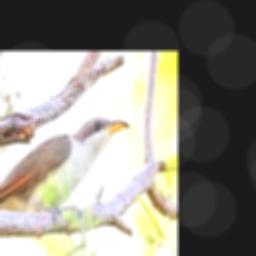Cuckoo: (0, 118, 130, 222)
